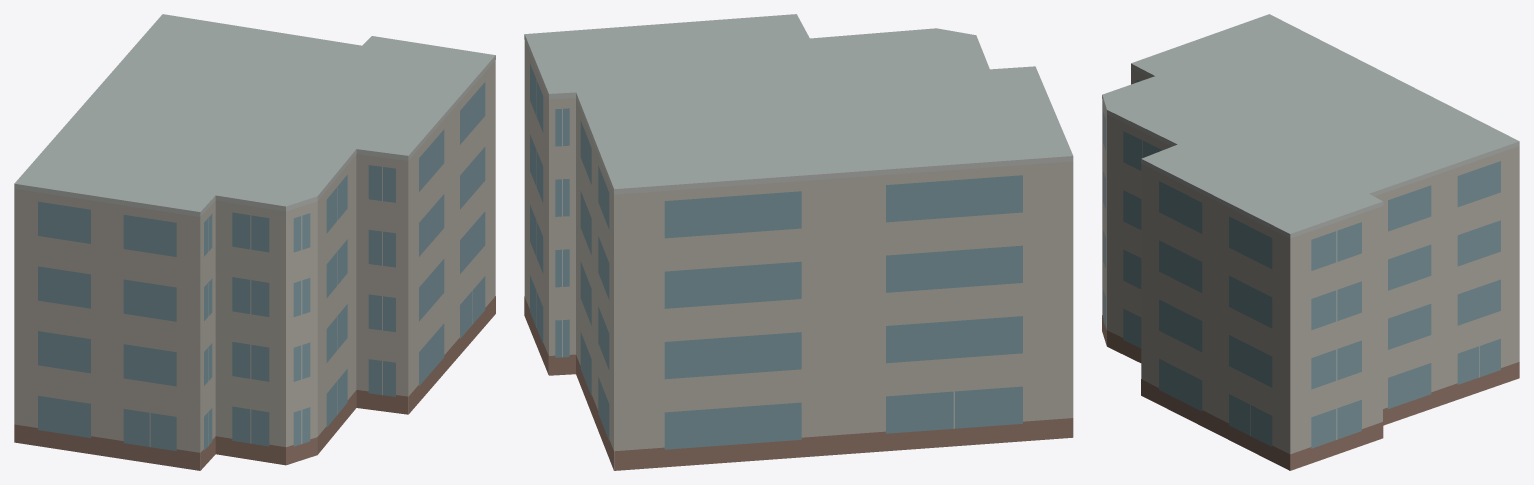
File: survey-upis-32610971.glb
3 renders of one model, left to right at view 1: azimuth 30°, elevation 25°; view 2: azimuth 150°, elevation 25°; view 3: azimuth 270°, elevation 25°, orthographic. The views are drawn at different scales.
Visible parts, largest first — view 1: survey-upis-32610971.tmp; view 2: survey-upis-32610971.tmp; view 3: survey-upis-32610971.tmp.
Boxes of the visible parts, bbox=[...] form: survey-upis-32610971.tmp: bbox=[14, 14, 495, 470]; survey-upis-32610971.tmp: bbox=[524, 14, 1073, 470]; survey-upis-32610971.tmp: bbox=[1102, 14, 1519, 470].
Size of the model in its own units: 25.32 by 12.7 by 20.3.
